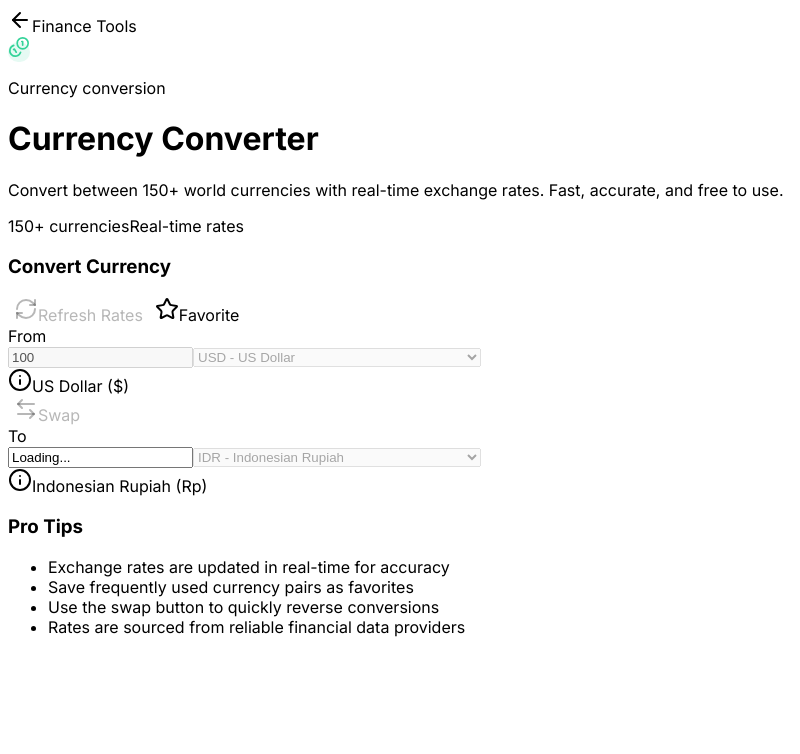
Test case: Currency Converter Page › Currency Conversion › updates conversion when from currency changes
Select "EUR - Euro" in the 1st dropdown. click: (337, 358)
box: x1=193 y1=348 x2=481 y2=367
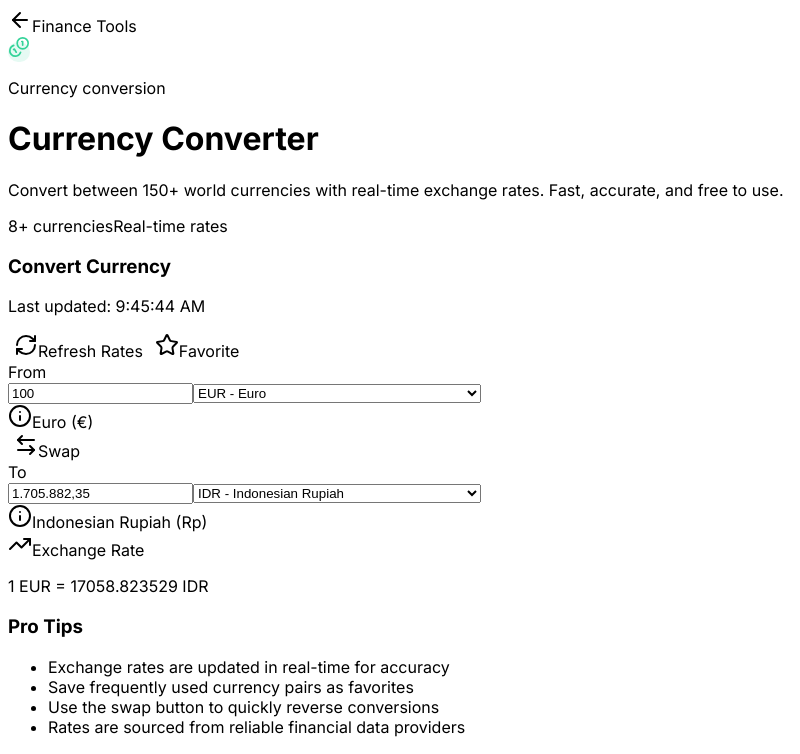
Check: the field with placeholder "Result" is not empty, box x1=8 y1=483 x2=193 y2=504
